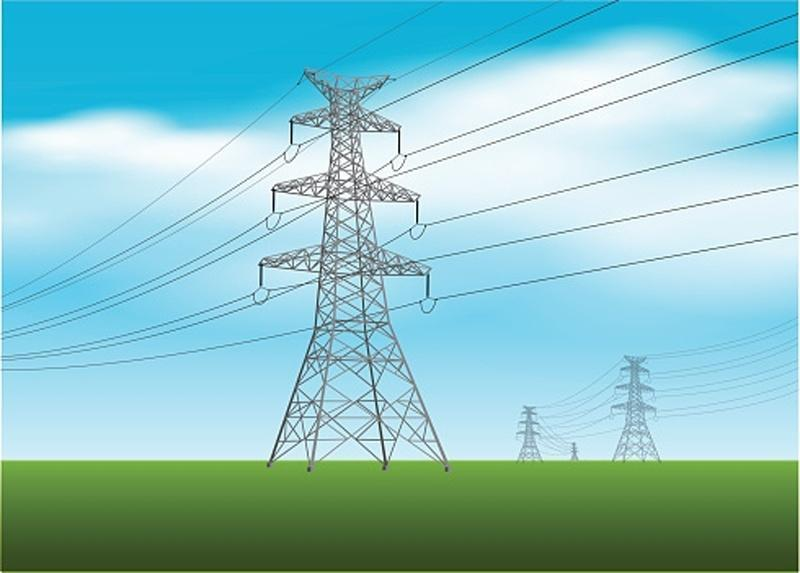power_tower: (258, 66, 448, 469), (609, 354, 664, 464), (513, 399, 543, 467), (566, 440, 582, 461)
